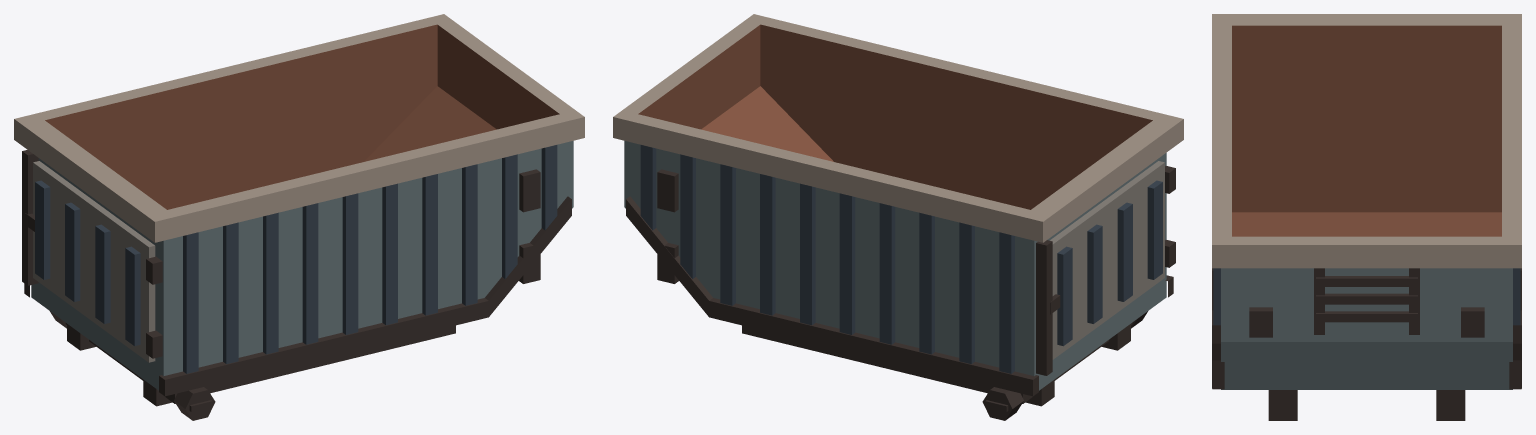
Rendered from construction-dumpster-2de7ae.glb.
The picture shows the model from 3 angles, left to right: view 1: azimuth 30°, elevation 25°; view 2: azimuth 150°, elevation 25°; view 3: azimuth 270°, elevation 25°; orthographic projection. The views are drawn at different scales.
Parts seen in each view (by area): view 1: dumpster-body, roller-l-mesh; view 2: dumpster-body, roller-r-mesh; view 3: dumpster-body.
Boxes of the visible parts, x1,y1,x2,y2 form: dumpster-body: [14, 14, 584, 406]; roller-l-mesh: [174, 387, 215, 420]; dumpster-body: [613, 14, 1183, 406]; roller-r-mesh: [982, 387, 1023, 420]; dumpster-body: [1212, 14, 1521, 420].
Size of the model in its own units: 3 by 1.4 by 1.7.
